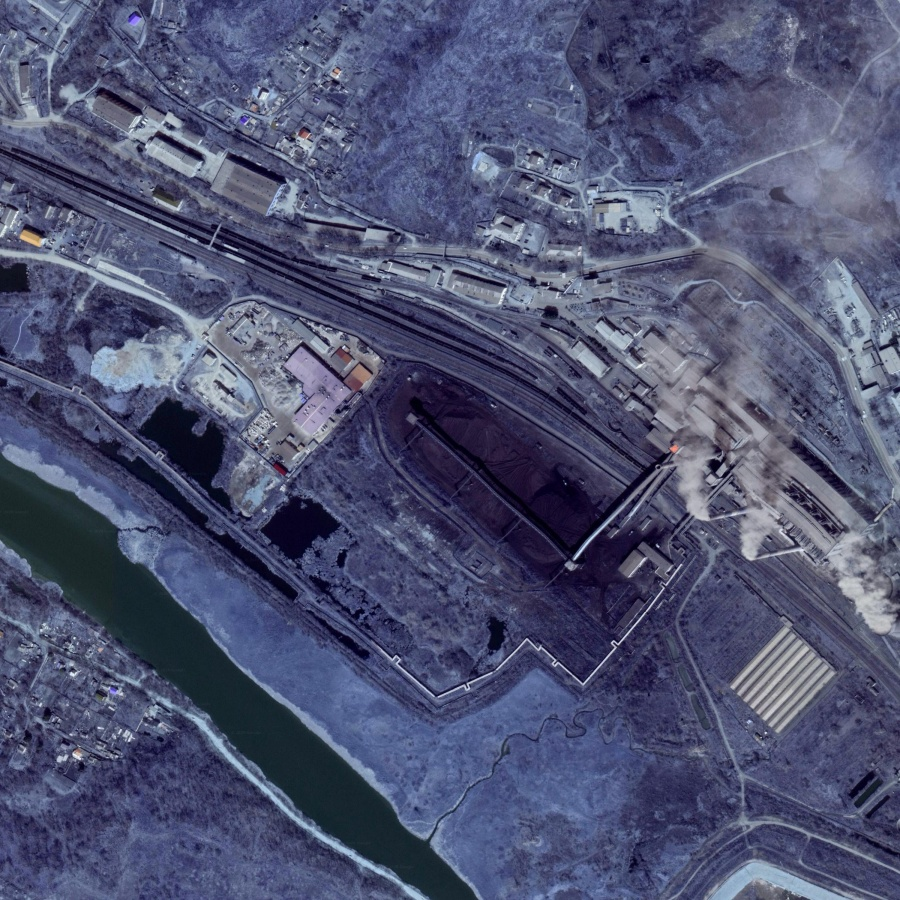PowerPlant: (382, 319, 823, 612)
